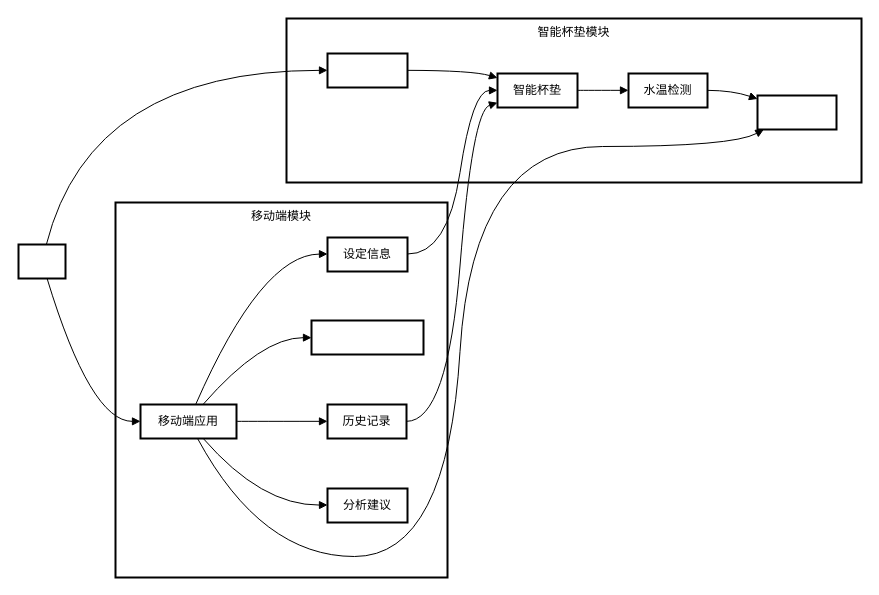
The diagram is 879 pixels wide and 595 high, and some of its shapes have lost their labels. Here are the shapes that lost their labels. From the top down, the centre of each, then its label:
[367,70]: 物理按钮
[796,112]: 喝水提醒
[41,261]: 用户
[367,337]: 智能杯垫状态
